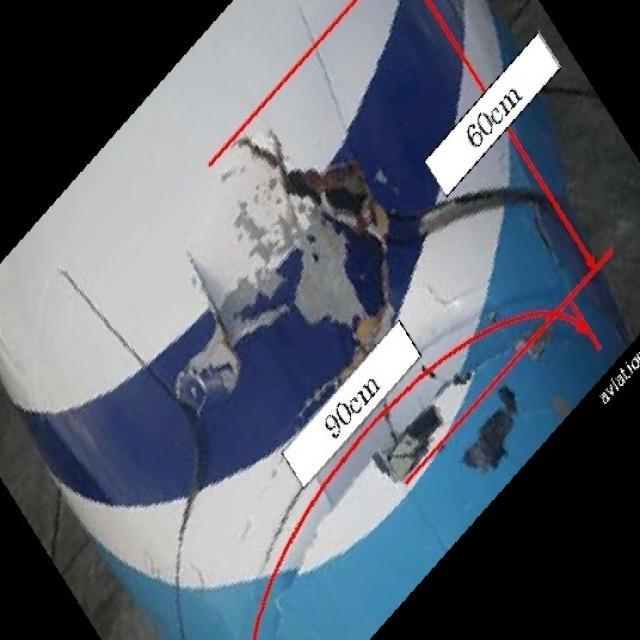crack: (235, 142, 564, 305), (182, 249, 238, 380)
